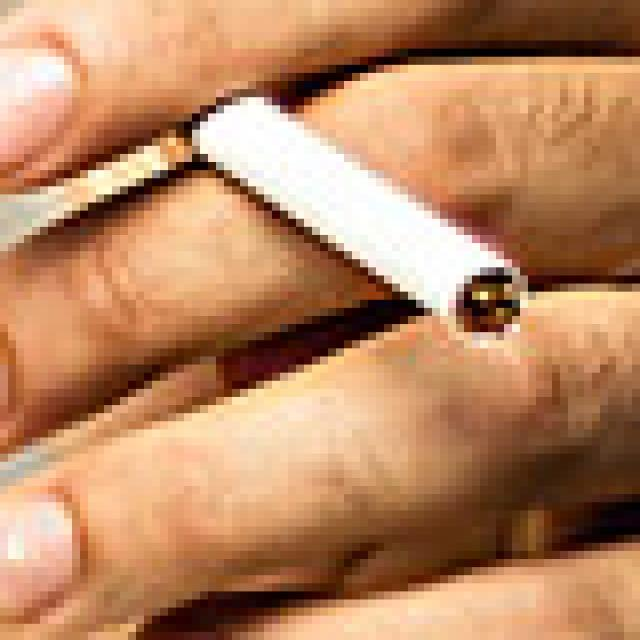smoking: (192, 92, 526, 341)
